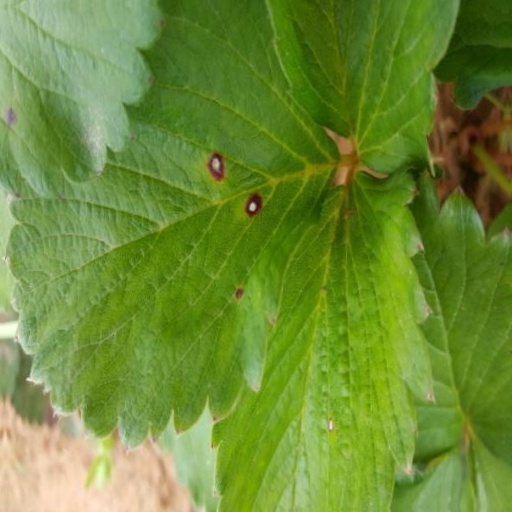Leaf Spot: (168, 60, 510, 511), (78, 0, 308, 345), (343, 318, 511, 511)
